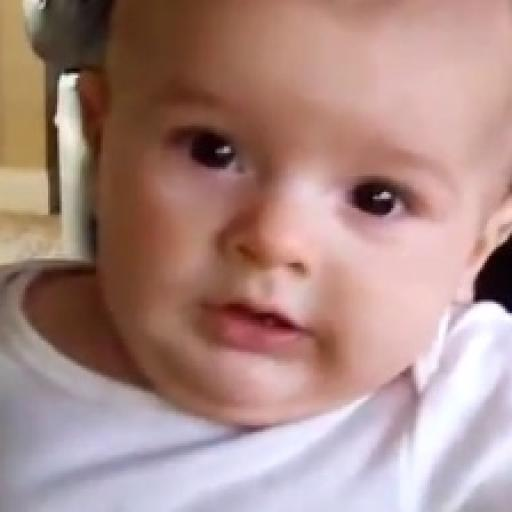Autism: (103, 2, 512, 444)
